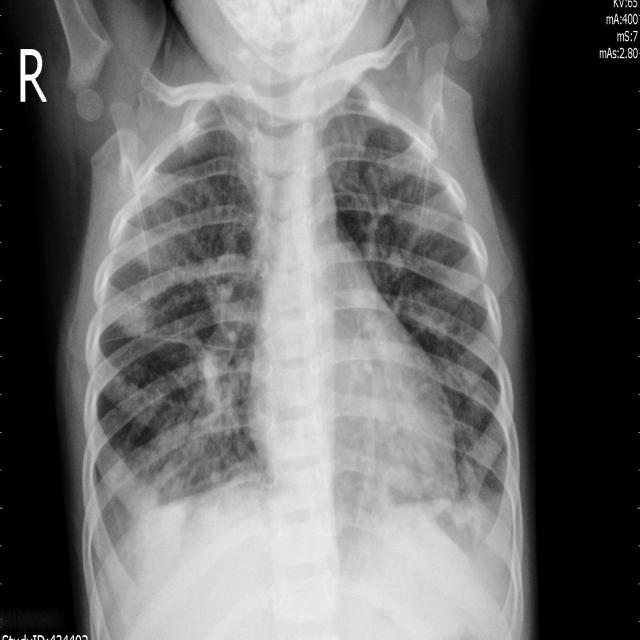low-pneumonia: (135, 252, 266, 500), (325, 71, 391, 216), (456, 401, 511, 530)
